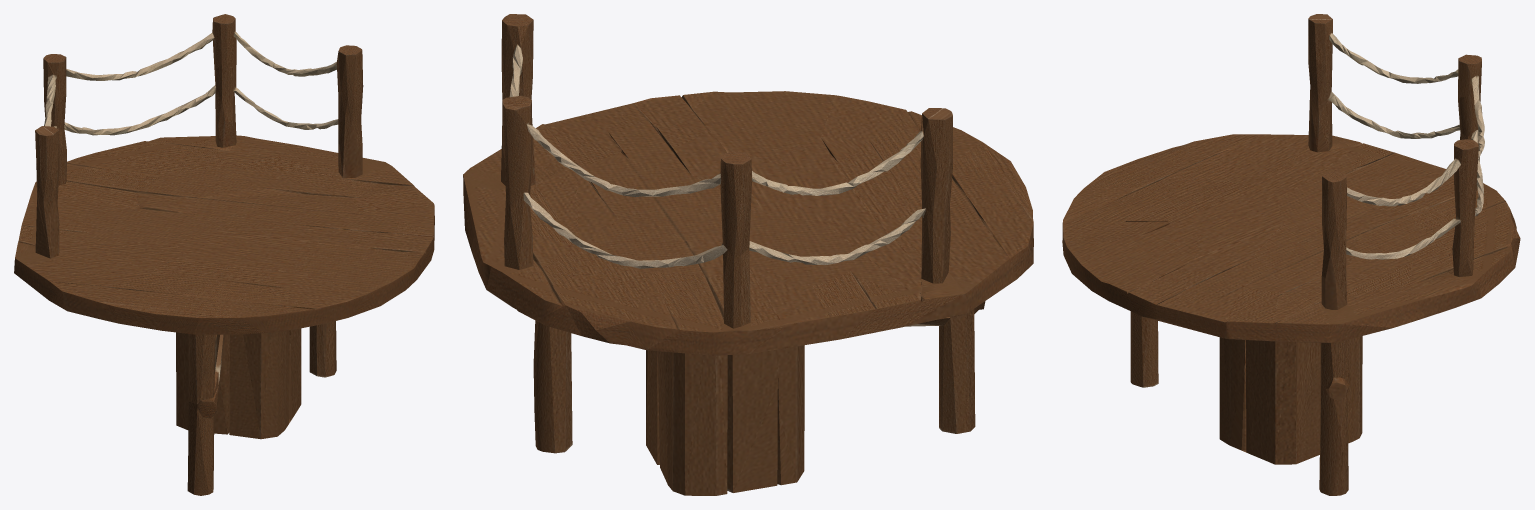
Rendered from platform.glb.
3 renders of one model, left to right at view 1: azimuth 30°, elevation 25°; view 2: azimuth 150°, elevation 25°; view 3: azimuth 270°, elevation 25°, orthographic. The views are drawn at different scales.
Bounding box in the file's own units: 1.89 × 1.49 × 1.89.
1 material, 1 textured.
